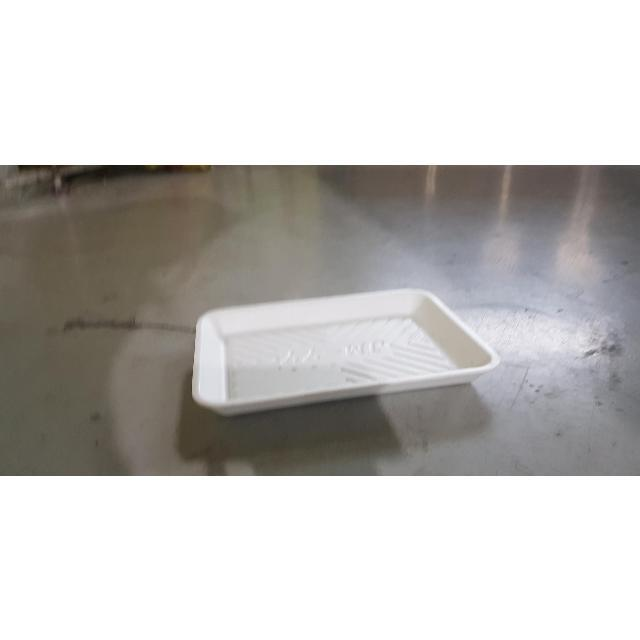Recipiente plastico: (192, 283, 500, 422)
